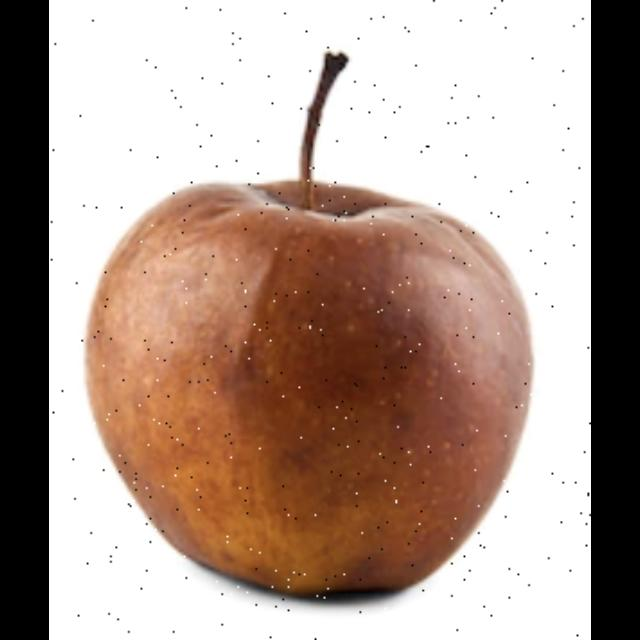Apel Tidak Segar: (71, 17, 548, 619)
